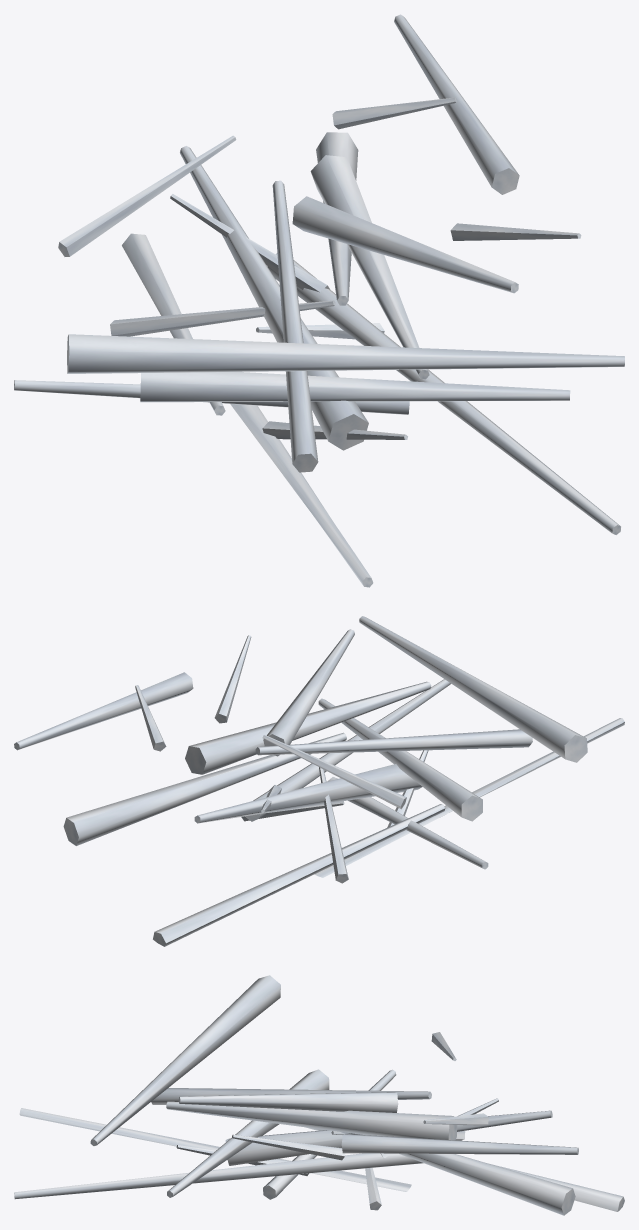
File: frozen-branches-v01.glb
3 renders of one model, top to bottom at view 1: azimuth 30°, elevation 25°; view 2: azimuth 150°, elevation 25°; view 3: azimuth 270°, elevation 25°, orthographic. The views are drawn at different scales.
Parts seen in each view (by area): view 1: frozen-branches; view 2: frozen-branches; view 3: frozen-branches.
Boxes of the visible parts, bbox=[...] form: frozen-branches: bbox=[14, 14, 624, 587]; frozen-branches: bbox=[14, 616, 624, 946]; frozen-branches: bbox=[14, 975, 624, 1215].
Size of the model in its own units: 1.69 by 0.6143 by 2.3.
2 materials, 2 textured.
